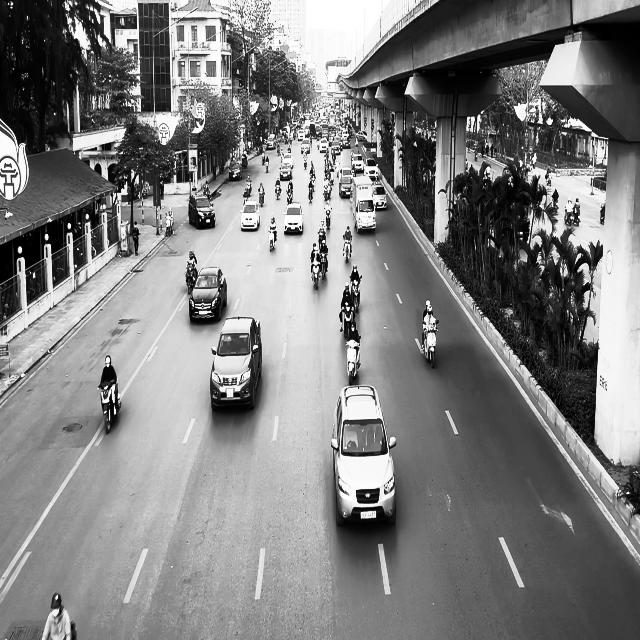car: (331, 384, 397, 526), (210, 315, 262, 411), (189, 266, 227, 322), (188, 194, 216, 229), (283, 202, 304, 234), (240, 200, 260, 230), (373, 183, 387, 209), (228, 160, 242, 180)
motorbike: (98, 378, 121, 433), (422, 319, 438, 368), (346, 335, 361, 384), (340, 303, 354, 339), (350, 276, 362, 311), (310, 258, 321, 290), (185, 266, 197, 295), (342, 233, 352, 262), (319, 251, 328, 279), (268, 227, 276, 251), (324, 205, 332, 229), (274, 180, 282, 200), (599, 202, 605, 224), (259, 190, 265, 206)
